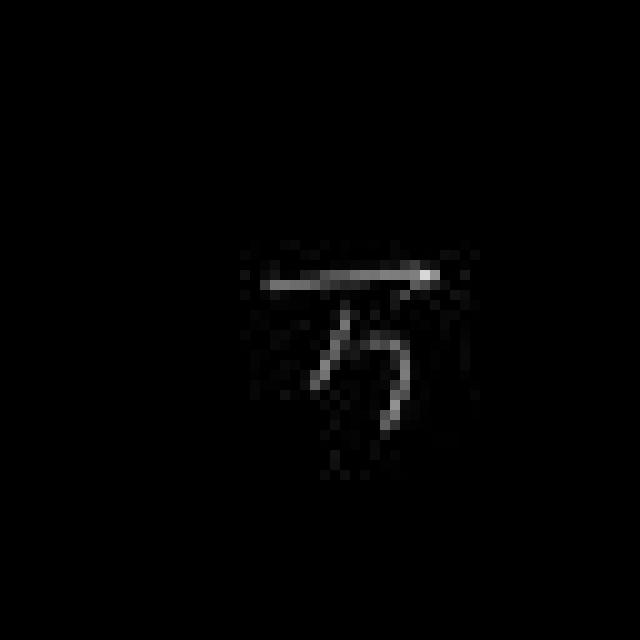10000 -a ten thousand-: (253, 245, 447, 445)
